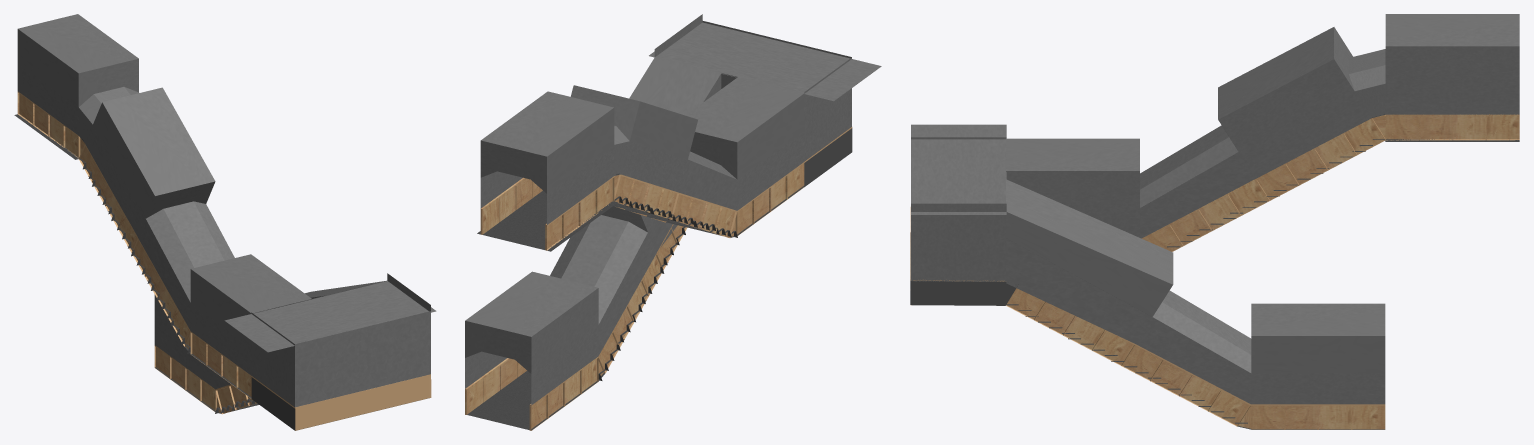
The model's file is InterimStaircase.glb.
The picture shows the model from 3 angles, left to right: view 1: azimuth 30°, elevation 25°; view 2: azimuth 150°, elevation 25°; view 3: azimuth 270°, elevation 25°; orthographic projection. The views are drawn at different scales.
Visible parts, largest first — view 1: Hallway.003, Hallway.005, Plane, Plane.004, Hallway.006, Hallway.002, Plane.003, Plane.001; view 2: Hallway.003, Hallway.005, Hallway.002, Plane.004, Hallway.001, Plane.003, Hallway.004, Plane.001, Plane.018, Plane.002; view 3: Hallway.005, Hallway.003, Hallway.002, Plane.004, Plane.002, Hallway.001, Hallway.006.
Boxes of the visible parts, x1,y1,x2,y2 form: Hallway.003: (17,14,215,252); Hallway.005: (133,207,431,430); Plane: (295,311,430,407); Plane.004: (224,281,436,352); Hallway.006: (146,201,234,302); Hallway.002: (154,294,258,414); Plane.003: (251,312,294,406); Plane.001: (79,158,190,353); Hallway.003: (480,85,697,250); Hallway.005: (601,57,852,269); Hallway.002: (465,208,663,430); Plane.004: (649,22,881,101); Hallway.001: (550,215,647,324); Plane.003: (804,57,851,161); Hallway.004: (477,191,617,251); Plane.001: (613,196,737,237); Plane.018: (598,226,685,380); Plane.002: (654,14,702,56); Hallway.005: (910,138,1269,365); Hallway.003: (1218,14,1519,200); Hallway.002: (1121,303,1385,429); Plane.004: (911,124,1006,214); Plane.002: (911,203,1006,281); Hallway.001: (1153,290,1251,372); Hallway.006: (1140,125,1238,207).
Size of the model in its own units: 11.18 by 19.79 by 31.85.
Materials: 20 (20 with a texture image).
